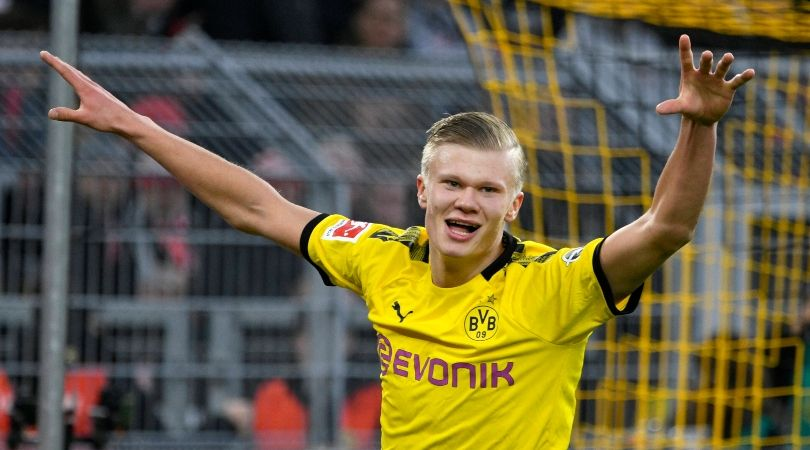NoMask: (430, 170, 505, 260)
